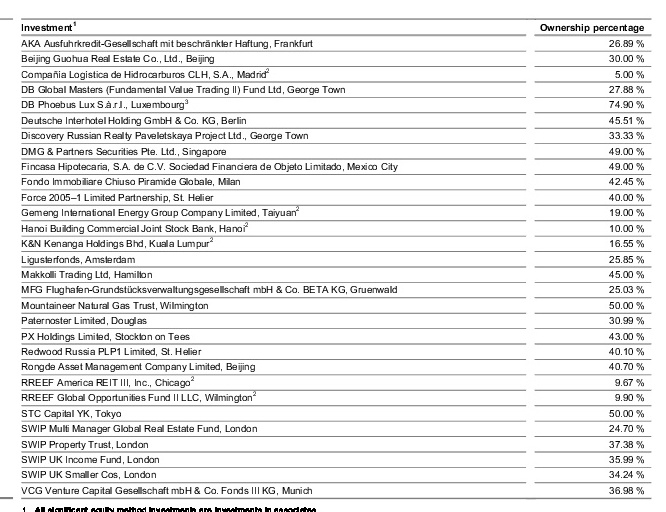table: (0, 0, 666, 512)
